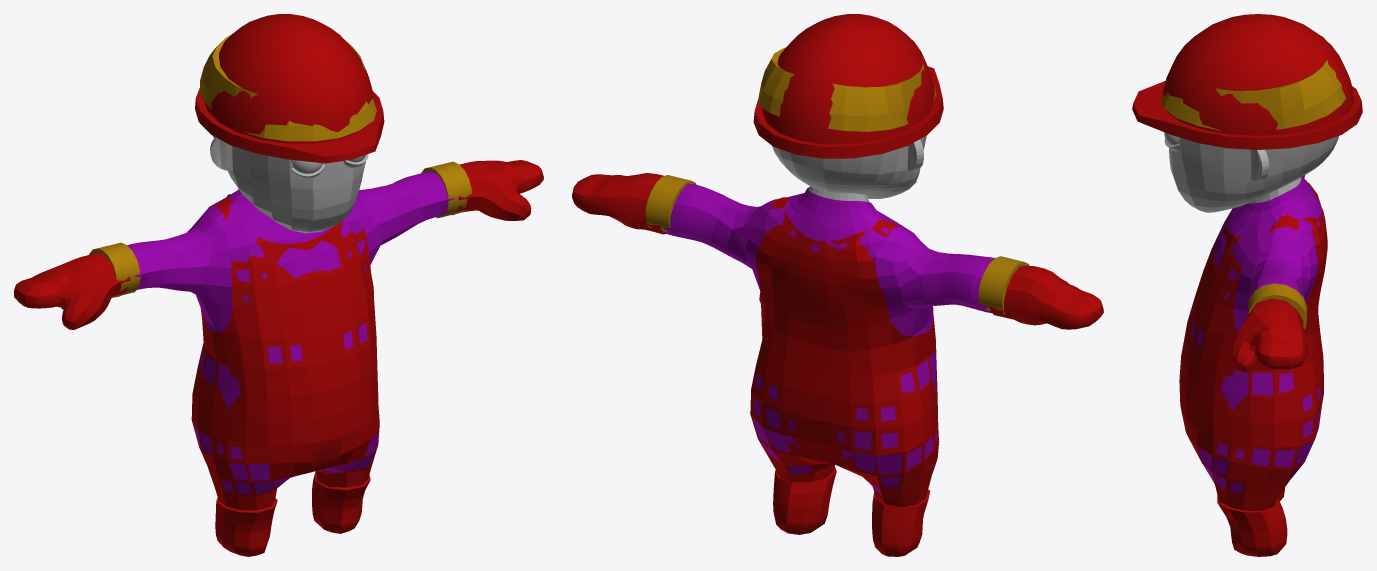
Rendered from Ropas.fbx.
The picture shows the model from 3 angles, left to right: view 1: azimuth 30°, elevation 25°; view 2: azimuth 150°, elevation 25°; view 3: azimuth 270°, elevation 25°; orthographic projection.
Parts seen in each view (by area): view 1: polySurface5, polySurface9, pSphere1, polySurface3, polySurface7, polySurface4, polySurface6, pCylinder1, group2; view 2: polySurface5, polySurface9, pSphere1, polySurface3, polySurface7, polySurface4, polySurface6, pCylinder1; view 3: polySurface5, pSphere1, polySurface9, polySurface7, polySurface6, polySurface3, polySurface4, pCylinder1.
Part boxes in pixels (bbox=[...]): polySurface5: bbox=[191, 194, 379, 510]; polySurface9: bbox=[127, 171, 455, 506]; pSphere1: bbox=[195, 14, 384, 163]; polySurface3: bbox=[14, 160, 543, 329]; polySurface7: bbox=[210, 136, 365, 233]; polySurface4: bbox=[215, 473, 370, 556]; polySurface6: bbox=[200, 35, 376, 141]; pCylinder1: bbox=[89, 161, 471, 297]; group2: bbox=[291, 154, 368, 178]; polySurface5: bbox=[750, 197, 939, 507]; polySurface9: bbox=[662, 184, 994, 495]; pSphere1: bbox=[753, 14, 943, 158]; polySurface3: bbox=[572, 173, 1103, 329]; polySurface7: bbox=[772, 135, 926, 201]; polySurface4: bbox=[773, 467, 930, 556]; polySurface6: bbox=[758, 47, 936, 131]; pCylinder1: bbox=[645, 175, 1029, 314]; polySurface5: bbox=[1179, 181, 1327, 510]; pSphere1: bbox=[1132, 14, 1362, 149]; polySurface9: bbox=[1190, 175, 1324, 493]; polySurface7: bbox=[1169, 136, 1338, 212]; polySurface6: bbox=[1161, 36, 1348, 130]; polySurface3: bbox=[1231, 298, 1307, 373]; polySurface4: bbox=[1217, 488, 1287, 556]; pCylinder1: bbox=[1248, 283, 1306, 329].
Bounding box in the file's own units: 190 × 179 × 73.45.
